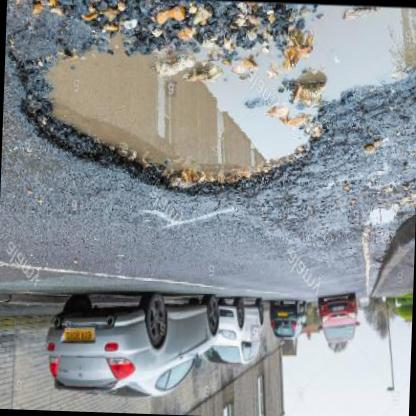pothole: (13, 15, 332, 208), (273, 4, 416, 120), (364, 206, 396, 232)
